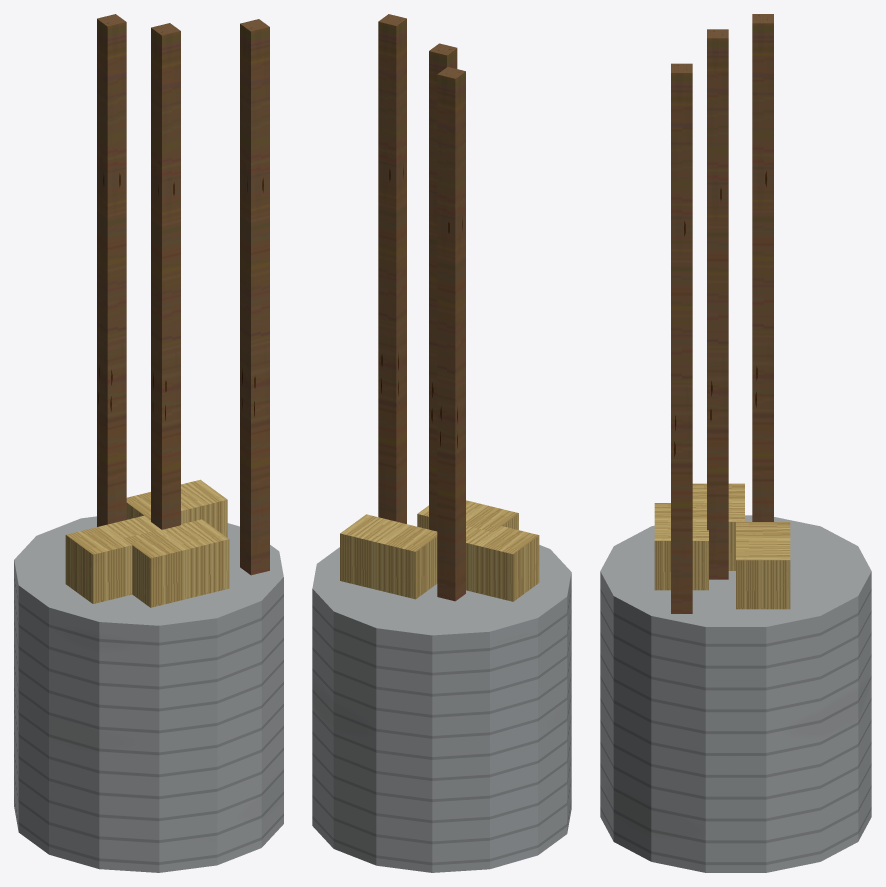
Rendered from broombin.glb.
3 renders of one model, left to right at view 1: azimuth 30°, elevation 25°; view 2: azimuth 150°, elevation 25°; view 3: azimuth 270°, elevation 25°, orthographic. The views are drawn at different scales.
Visible parts, largest first — view 1: broombin; view 2: broombin; view 3: broombin.
Part boxes in pixels (x1=…): broombin: x1=14, y1=14, x2=283, y2=872; broombin: x1=312, y1=14, x2=571, y2=872; broombin: x1=600, y1=14, x2=871, y2=872.
Size of the model in its own units: 0.2925 by 0.96 by 0.3.
Materials: 1 (1 with a texture image).
